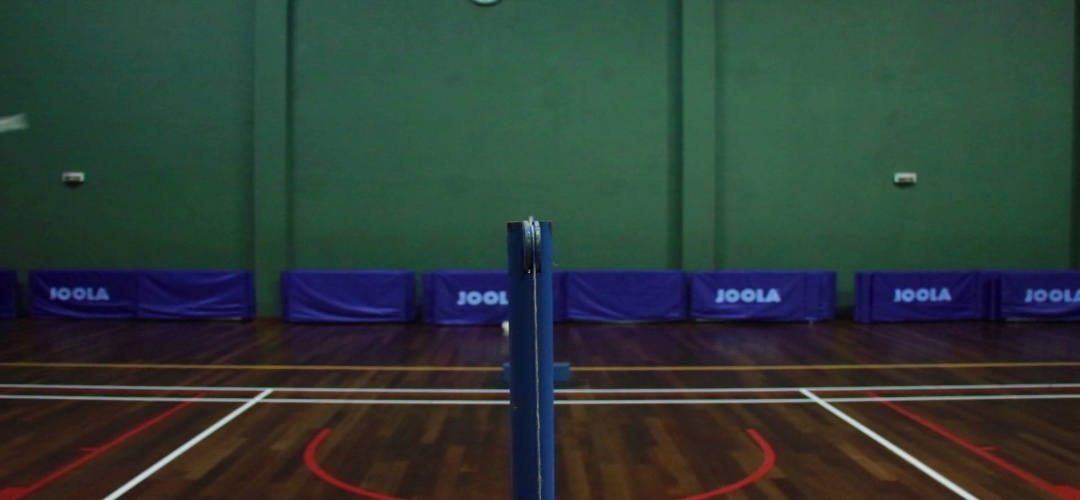c1: (238, 394, 274, 410)
c2: (797, 394, 840, 409)
net_level: (504, 221, 555, 283)
shuttle: (1, 109, 25, 138)
